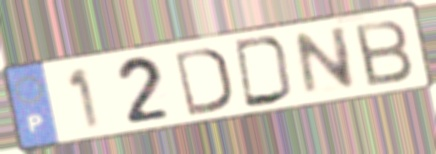1: (63, 64, 103, 133)
2: (115, 52, 180, 131)
B: (350, 17, 417, 89)
D: (231, 34, 296, 110), (171, 45, 233, 119)
N: (292, 23, 360, 99)
